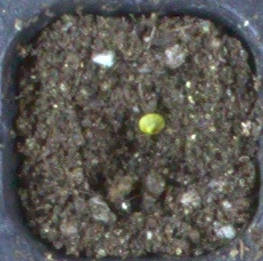chilli seed: (137, 112, 166, 135)
